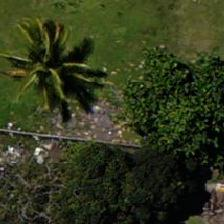Kelapa_Sawit: (7, 27, 97, 117)
